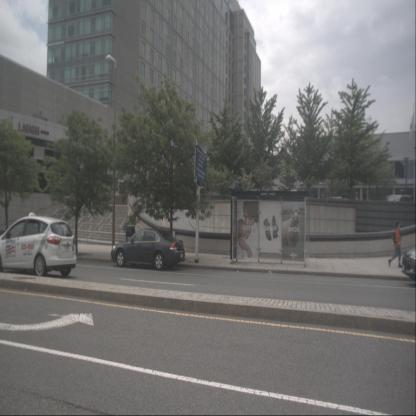human-pedestrian-adult: (388, 220, 404, 269)
vehicle-car: (0, 210, 77, 275), (111, 228, 186, 270), (380, 194, 414, 216)
